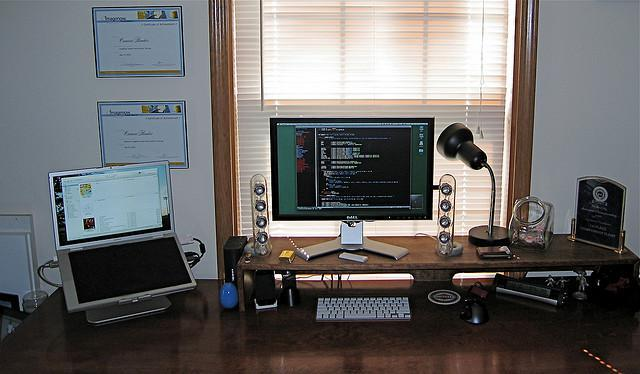tv: (270, 120, 440, 237), (51, 176, 182, 293)
